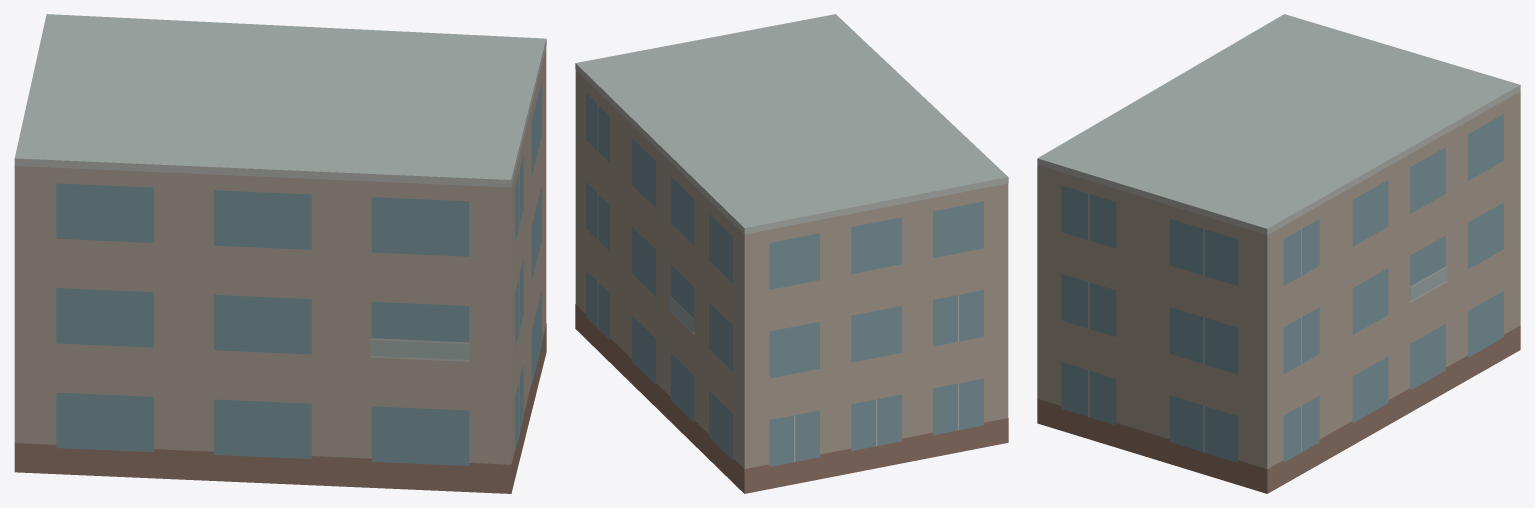
File: survey-upis-32916359.glb
3 renders of one model, left to right at view 1: azimuth 30°, elevation 25°; view 2: azimuth 150°, elevation 25°; view 3: azimuth 270°, elevation 25°, orthographic. The views are drawn at different scales.
Parts seen in each view (by area): view 1: survey-upis-32916359.tmp; view 2: survey-upis-32916359.tmp; view 3: survey-upis-32916359.tmp.
Boxes of the visible parts, bbox=[...] form: survey-upis-32916359.tmp: bbox=[14, 14, 546, 493]; survey-upis-32916359.tmp: bbox=[575, 14, 1008, 493]; survey-upis-32916359.tmp: bbox=[1037, 14, 1520, 493].
Size of the model in its own units: 17.75 by 10.2 by 16.87.
